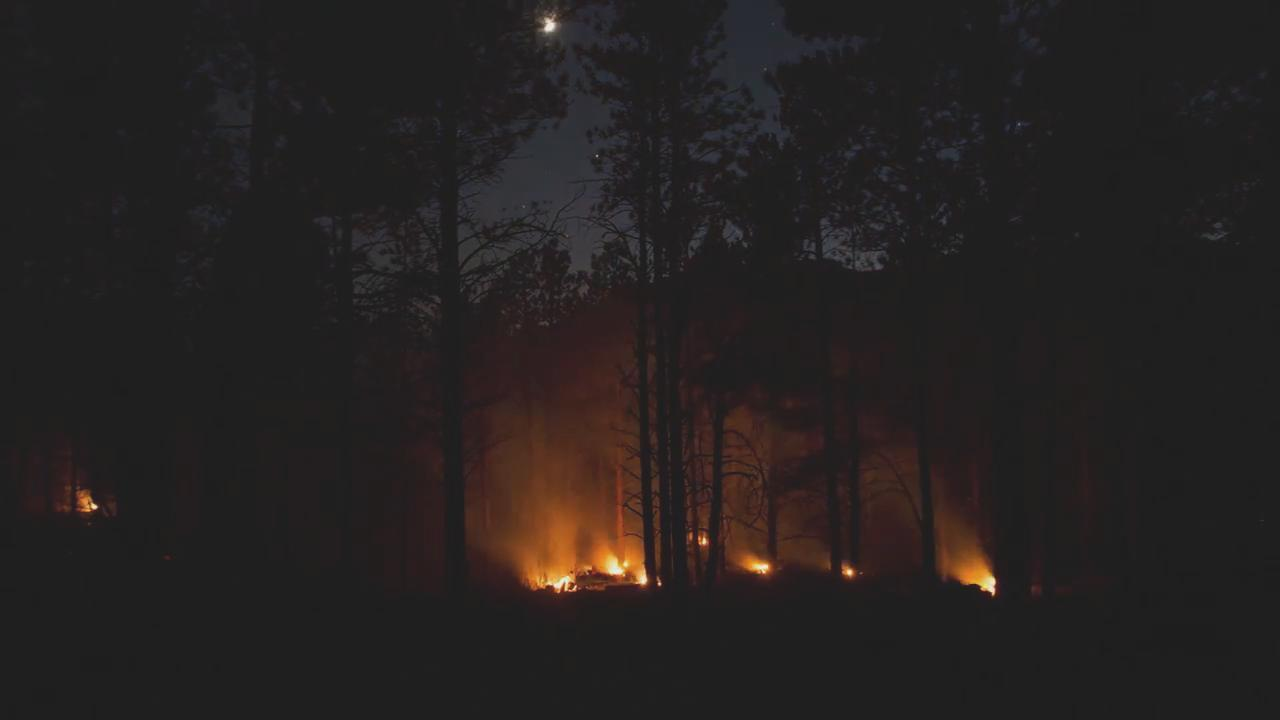fire: (604, 555, 663, 590), (955, 563, 995, 596), (527, 569, 578, 594), (76, 489, 99, 514), (746, 556, 768, 576), (695, 530, 708, 546), (838, 564, 854, 576)
